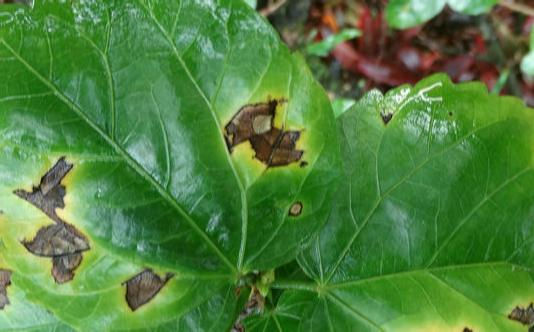Tomato Septoria leaf spot: (0, 0, 341, 332), (299, 86, 534, 332)
